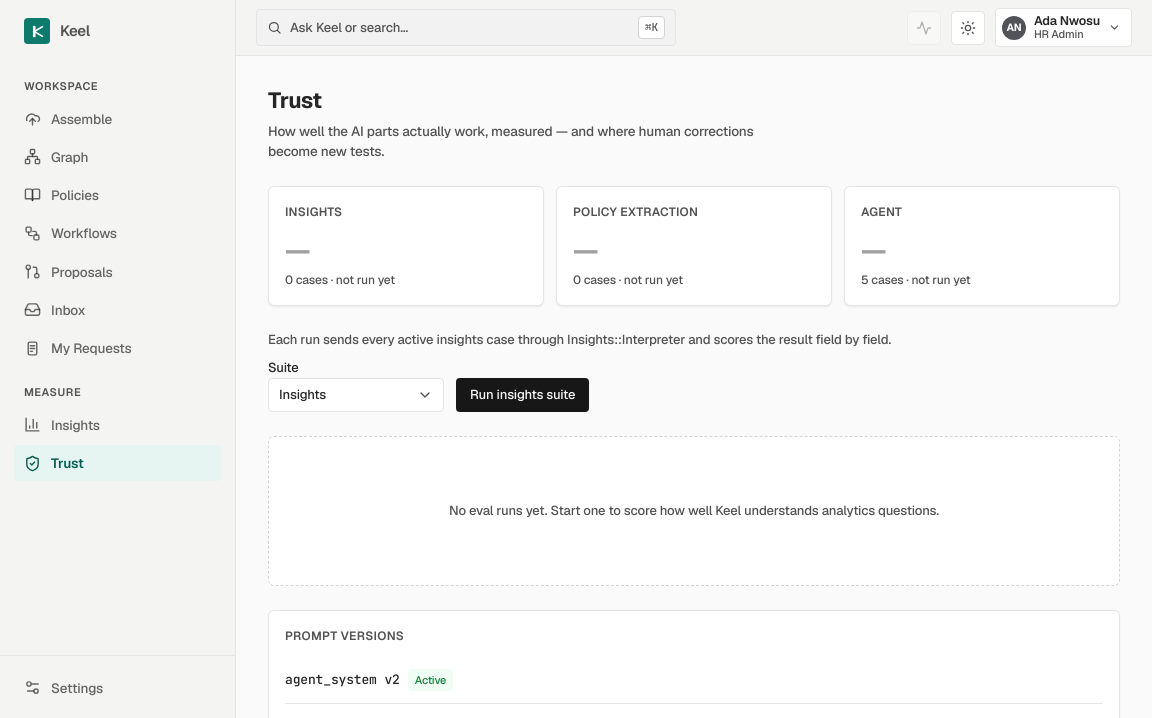
Scenario: /trust › starts an agent run of a chosen agent_system prompt version, with no stability sampling
The width and height of the screenshot is (1152, 718).
Click the dropdown named "Suite" at (356, 395), box [268,378,444,412]
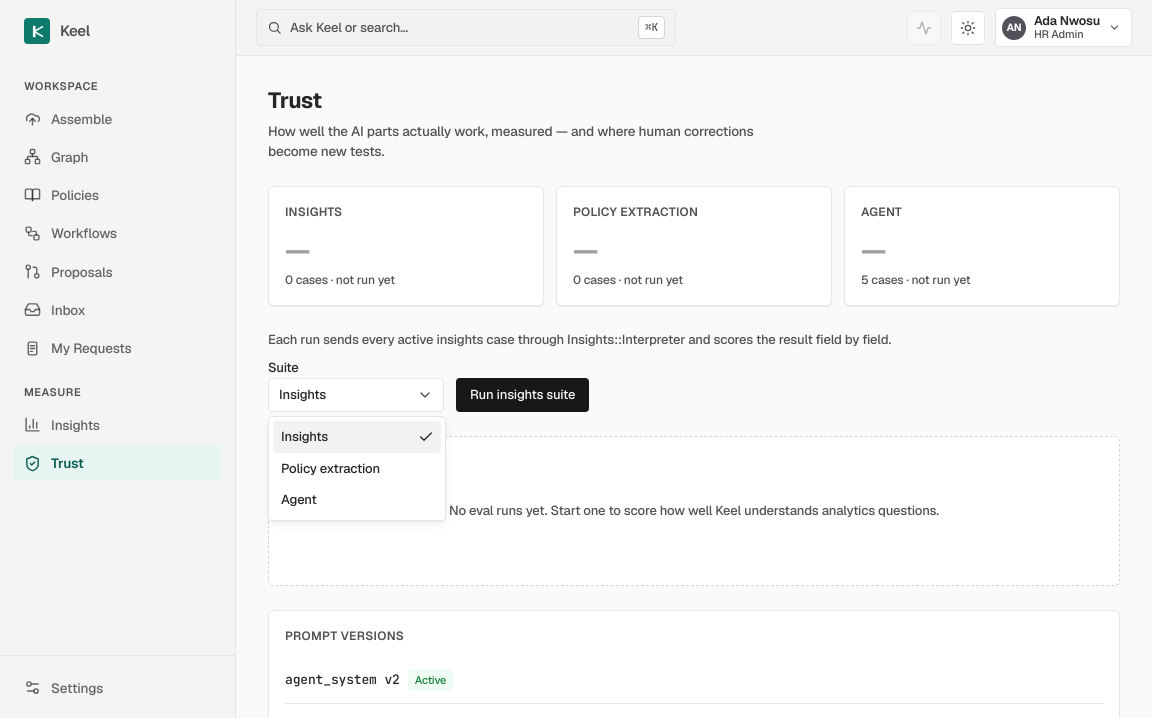
Click the option "Agent" at (299, 500), box [281,491,317,508]
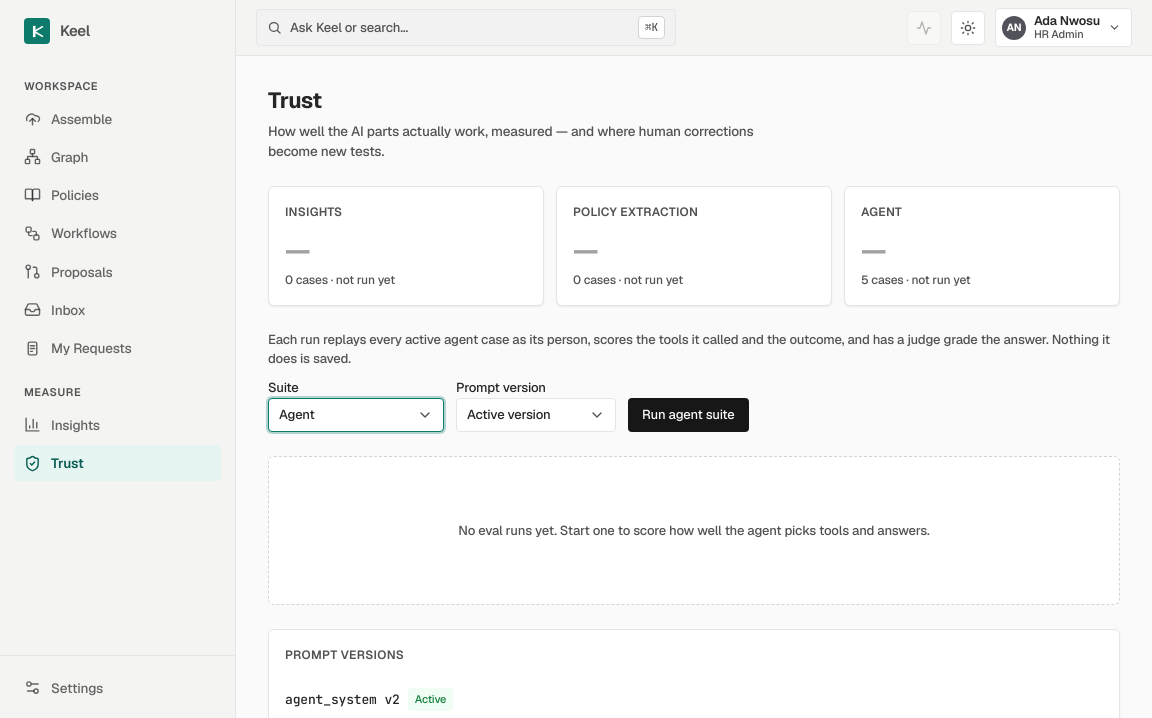
Click the dropdown named "Prompt version" at (536, 414), box [456,398,616,432]
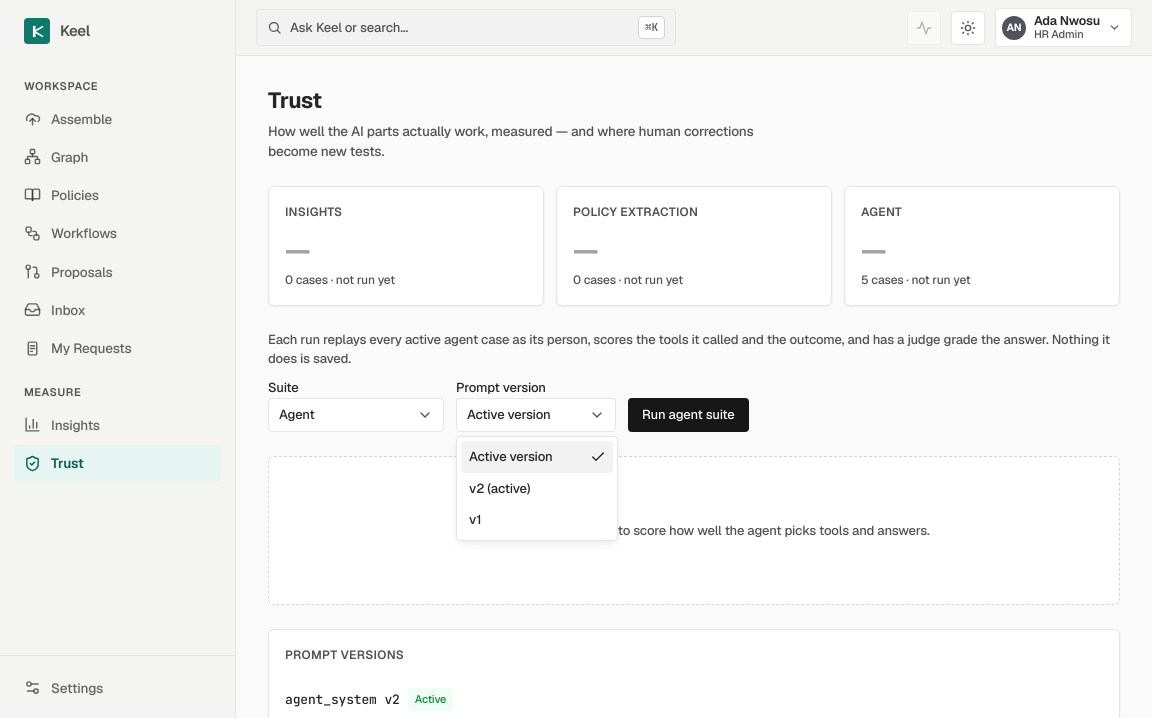
Click the option "v1" at (475, 520), box [469,511,481,528]
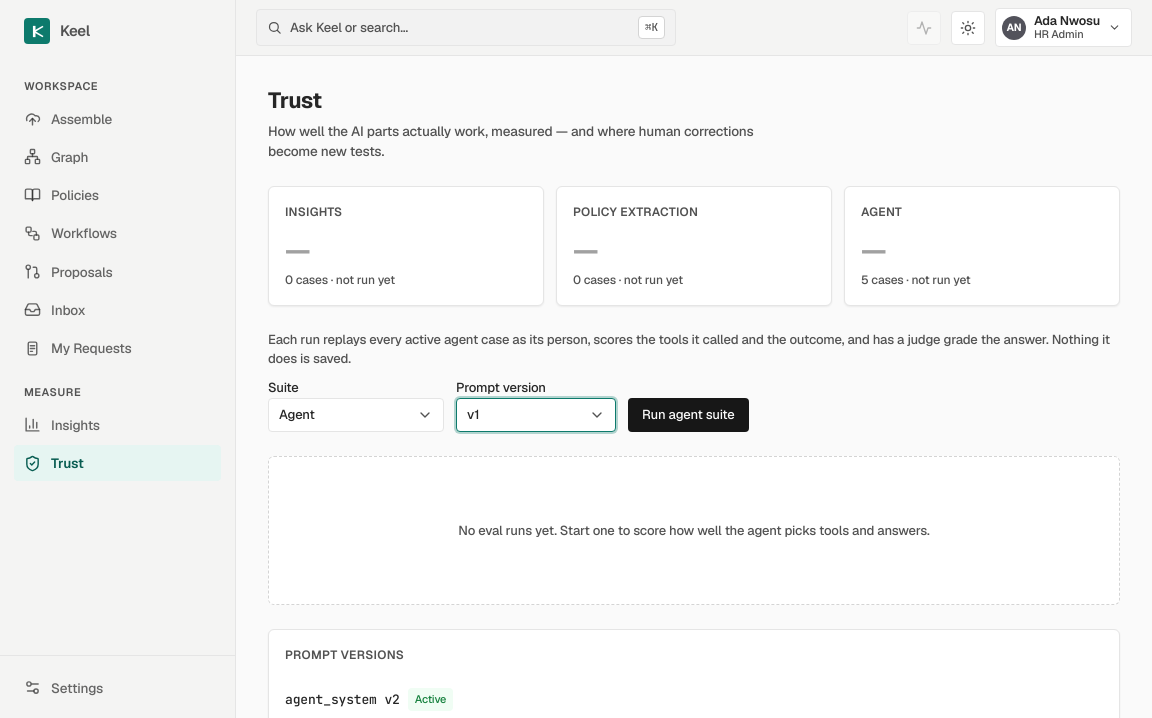
Click the button "Run agent suite" at (688, 414), box [628,398,749,432]
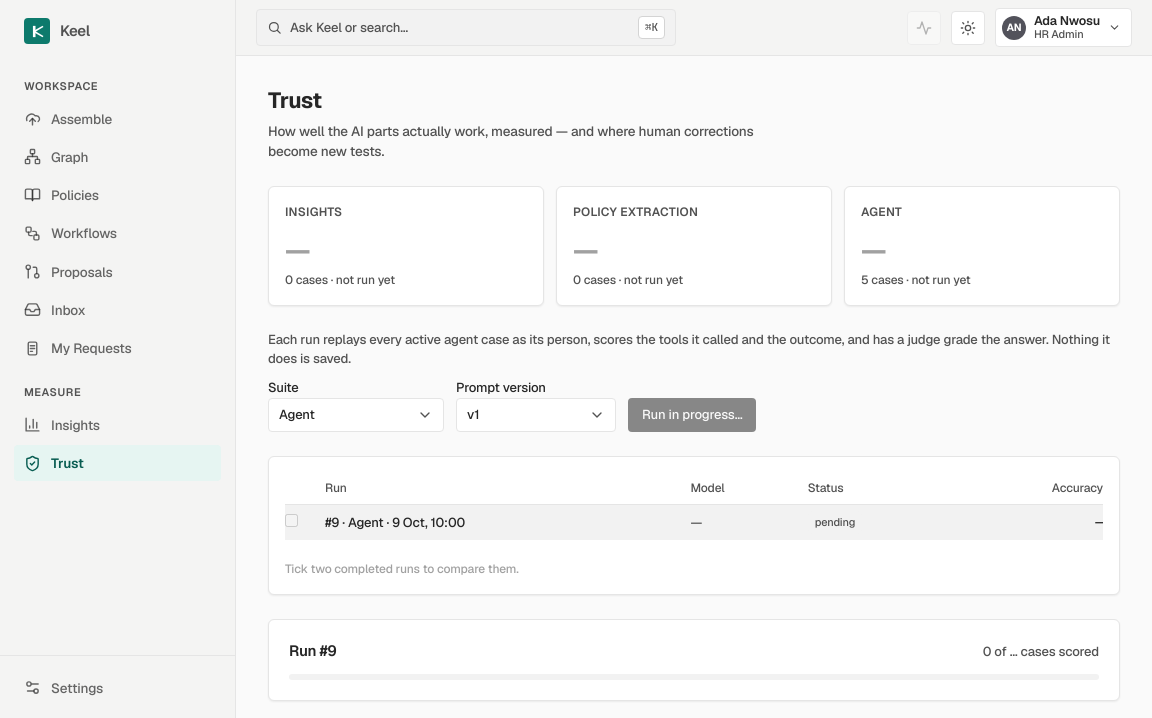
Now the element "Run #9" is shown, box [268,618,1120,701]
